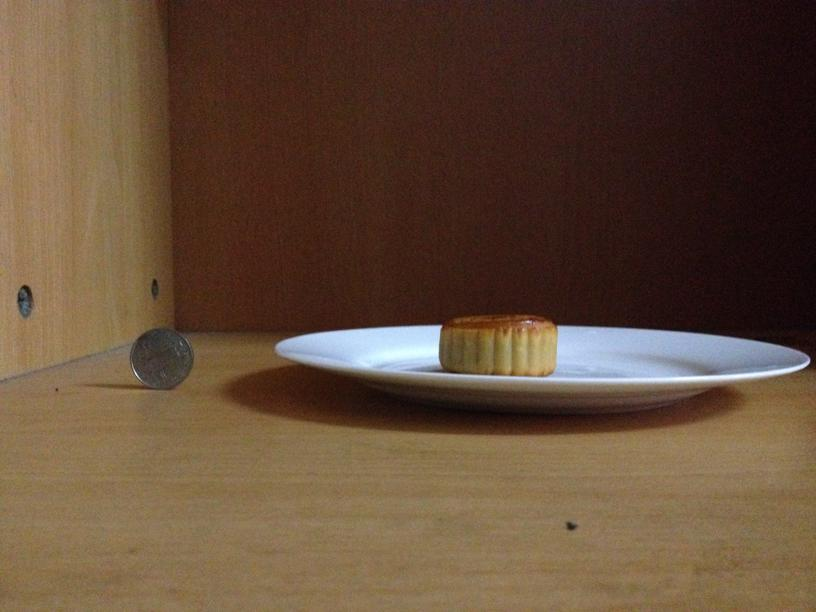coin: (129, 328, 194, 389)
mooncake: (439, 313, 557, 374)
